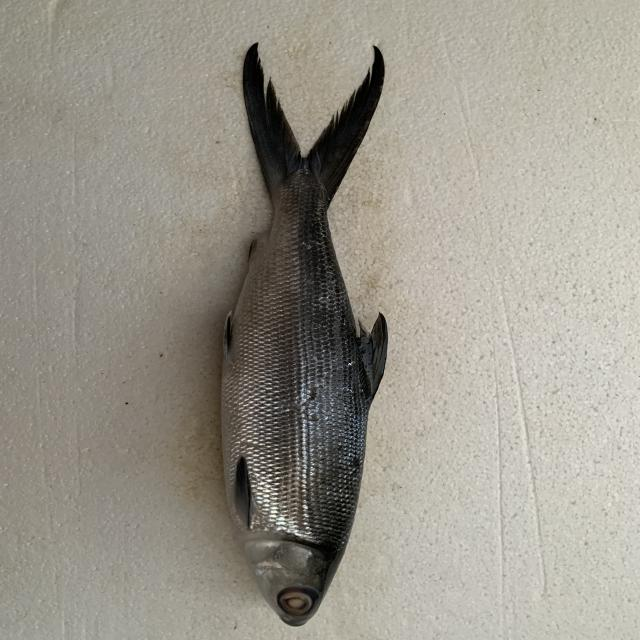Bangus-F -6-10-: (198, 31, 405, 638)
Eye-4-: (274, 587, 323, 620)
Skin-6-: (241, 208, 355, 508)
